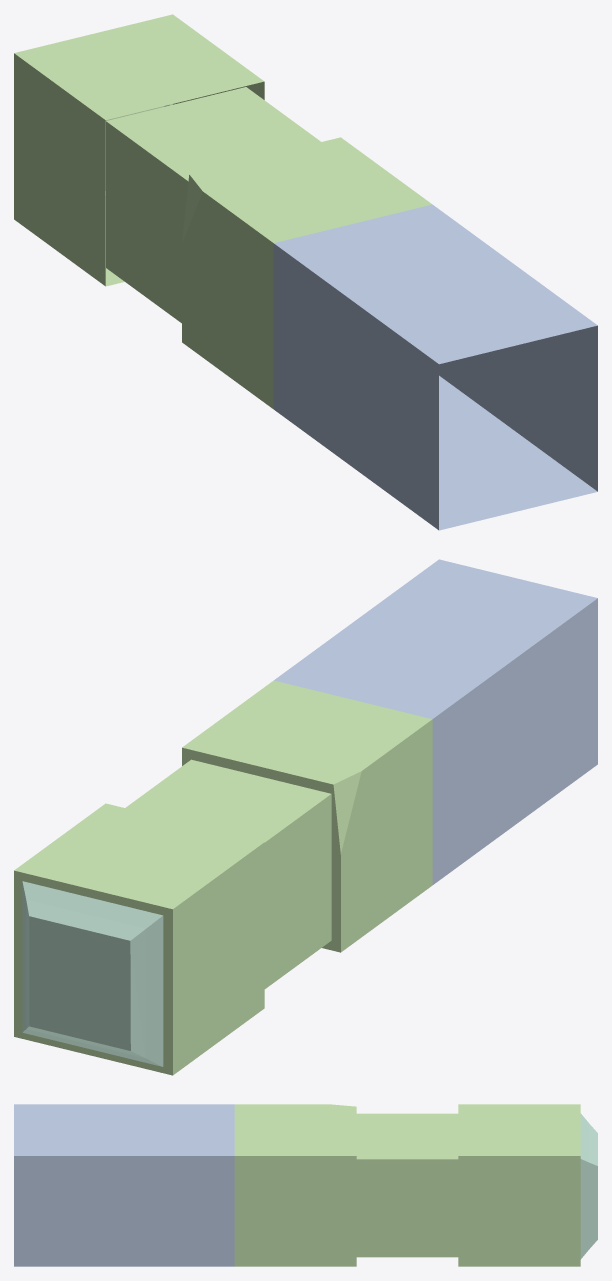
The picture shows the model from 3 angles, top to bottom: view 1: azimuth 30°, elevation 25°; view 2: azimuth 150°, elevation 25°; view 3: azimuth 270°, elevation 25°; orthographic projection. The views are drawn at different scales.
Parts seen in each view (by area): view 1: Object47; view 2: Object47; view 3: Object47.
Boxes of the visible parts, box(x1,y1,x2,y2) form: Object47: box(14, 14, 597, 530); Object47: box(14, 559, 597, 1075); Object47: box(14, 1104, 597, 1266).
Bounding box in the file's own units: 20154 × 20154 × 96255.
